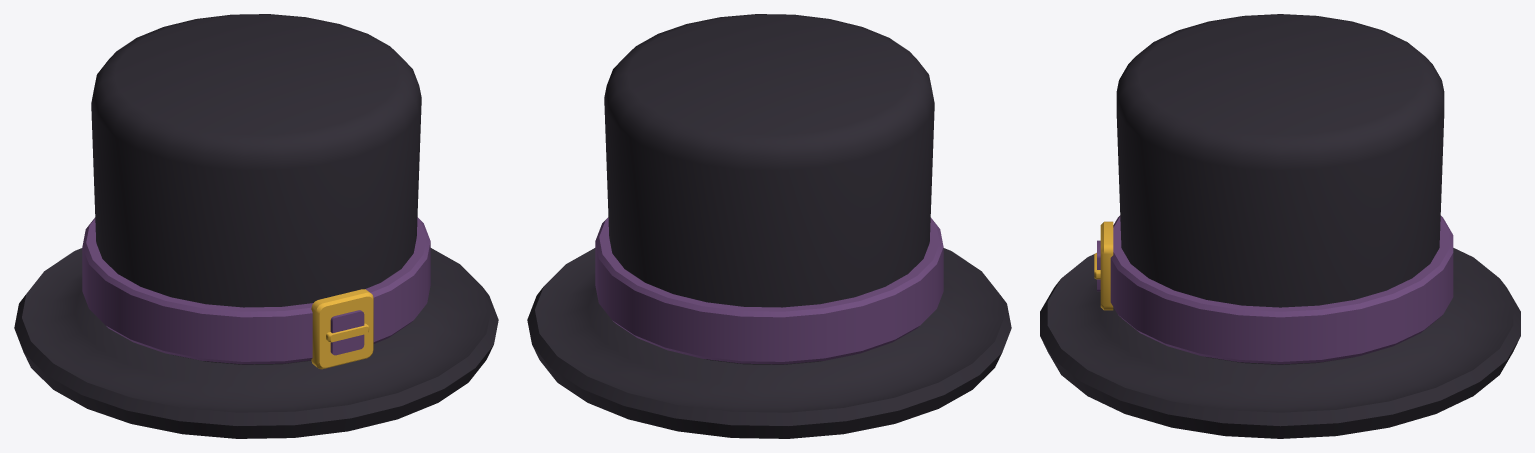
The model's file is hat_top_hat.glb.
3 views of the same model, side by side, from view 1: azimuth 30°, elevation 25°; view 2: azimuth 150°, elevation 25°; view 3: azimuth 270°, elevation 25° (orthographic).
Visible parts, largest first — view 1: Hat; view 2: Hat; view 3: Hat.
Part boxes in pixels (x1,y1,x2,y2): Hat: (14, 14, 498, 438); Hat: (527, 14, 1011, 438); Hat: (1040, 14, 1520, 438).
Size of the model in its own units: 0.768 by 0.48 by 0.7624.
